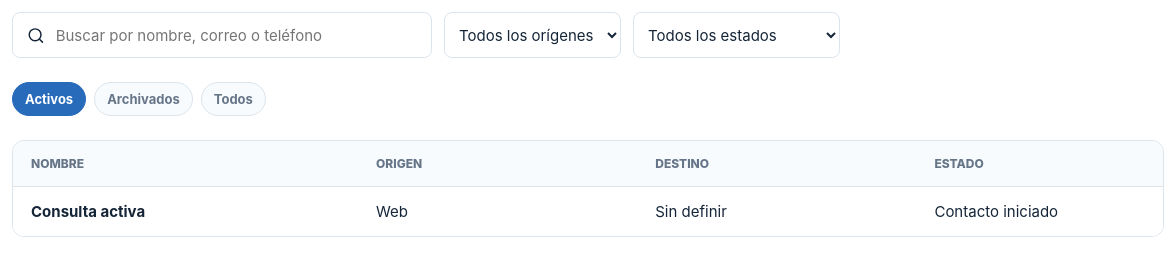
Scenario: LeadList › keeps archived Leads visible through an explicit archive filter
Expected: the text "Consulta activa" is shown, 31,202 -> 145,221
Expected: the text "Consulta archivada" is not shown
Click the button "Archivados".
click(144, 99)  # box 94,82 -> 193,116
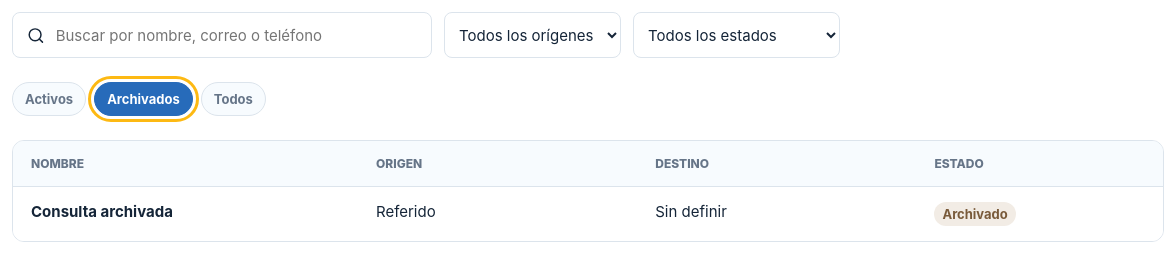
Result: the text "Consulta archivada" is shown at 31,202 -> 173,221
Result: the text "Archivado" is shown at 934,202 -> 1016,226
